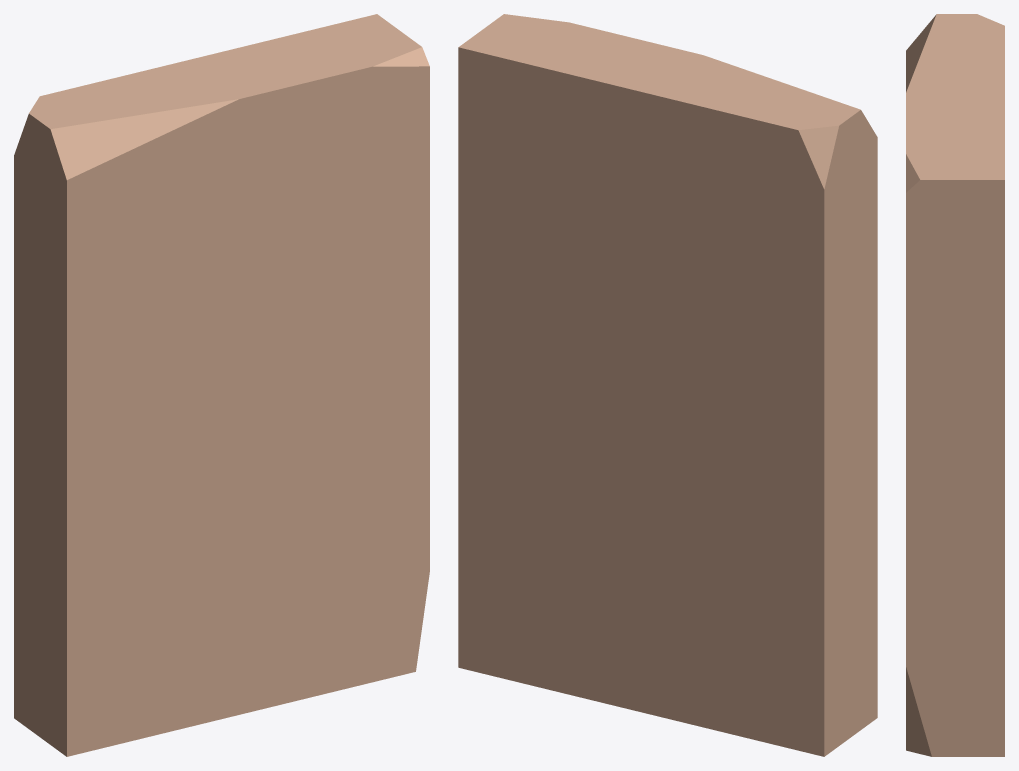
Rendered from wall_thick.gltf.
3 renders of one model, left to right at view 1: azimuth 30°, elevation 25°; view 2: azimuth 150°, elevation 25°; view 3: azimuth 270°, elevation 25°, orthographic. The views are drawn at different scales.
Visible parts, largest first — view 1: Wall thick; view 2: Wall thick; view 3: Wall thick.
Boxes of the visible parts, left/top/right/bottom form: Wall thick: left=14, top=14, right=429, bottom=756; Wall thick: left=458, top=14, right=877, bottom=756; Wall thick: left=906, top=14, right=1004, bottom=756.
Bounding box in the file's own units: 3.97 × 6.44 × 1.
